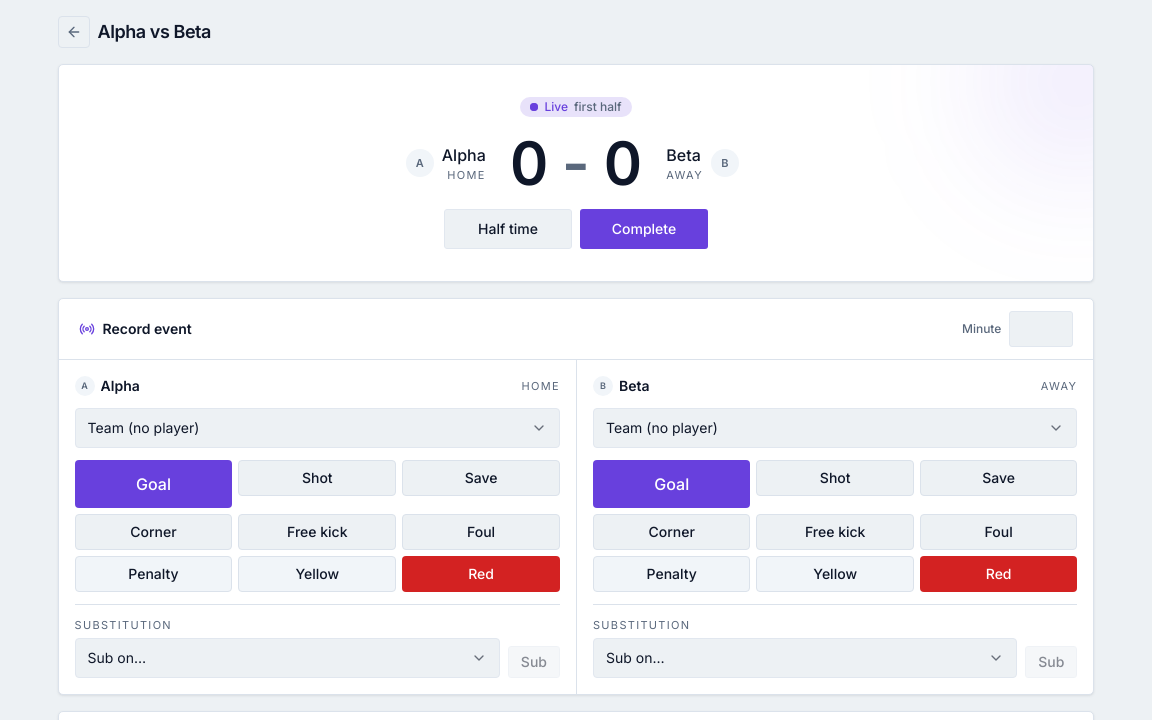
Test case: MatchConsolePage › parks a tap offline (queued, not lost, no error toast) when the server is unreachable
Click the 1st button "Goal" at x=154, y=484, box [75,460,232,508]
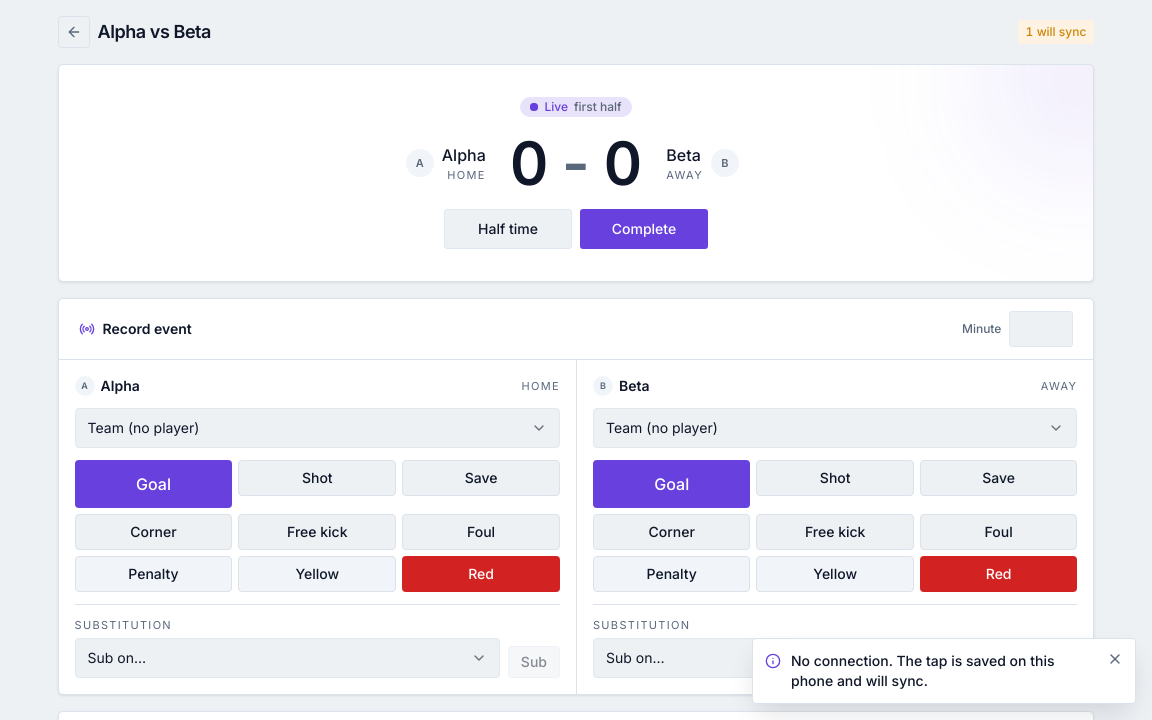
Check: the text "1 will sync" is shown, box [1018,20,1094,44]
